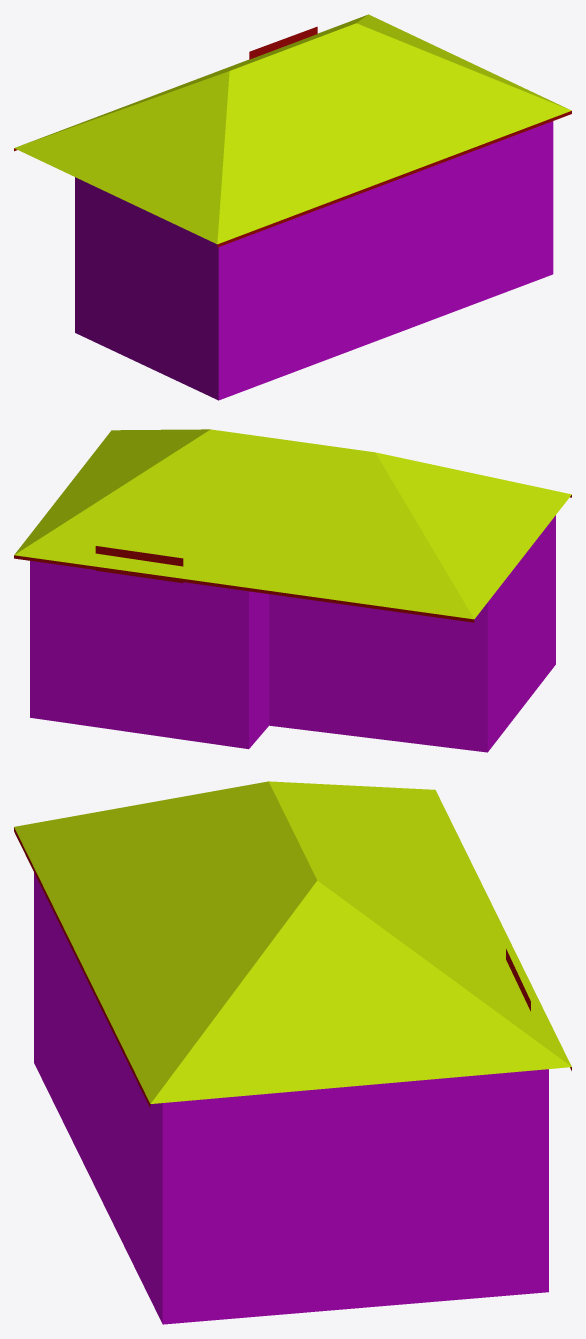
Rendered from sjs_5.glb.
3 renders of one model, top to bottom at view 1: azimuth 30°, elevation 25°; view 2: azimuth 150°, elevation 25°; view 3: azimuth 270°, elevation 25°, orthographic. The views are drawn at different scales.
Parts seen in each view (by area): view 1: sjs_5; view 2: sjs_5; view 3: sjs_5.
Boxes of the visible parts, x1,y1,x2,y2 form: sjs_5: (14,14,571,400); sjs_5: (14,429,571,752); sjs_5: (14,781,571,1324).
Bounding box in the file's own units: 17.65 × 9.07 × 13.24.
